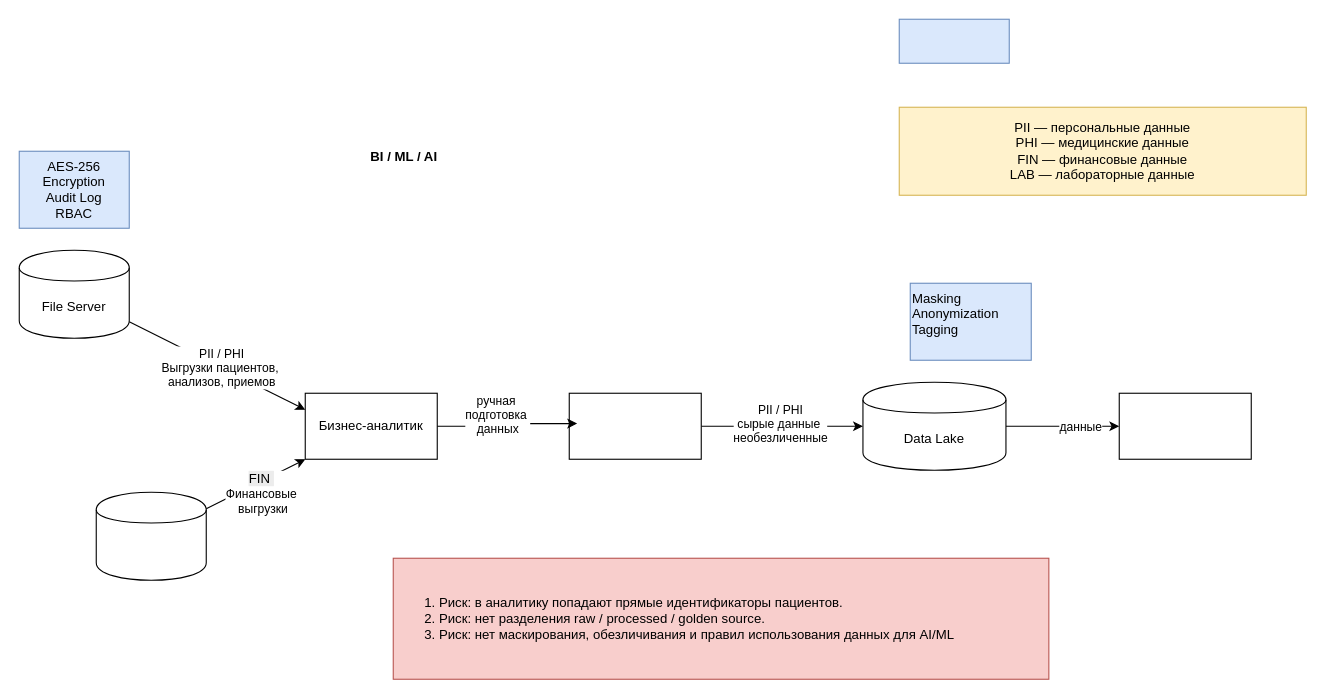
The diagram is 1326 pixels wide and 699 high, and some of its shapes have lost their labels. Here are the shapes that lost their labels. From the top down, the centre of each, then its label:
the point at 953,40: To-Be меры
the point at 634,425: Python
the point at 1184,425: BI-отчеты, ML и AI-модели
the point at 150,535: 1С
